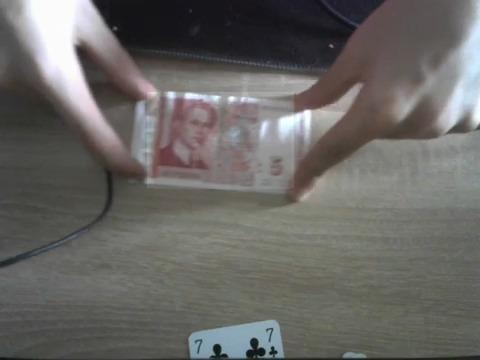5leva: (147, 92, 294, 188), (154, 93, 291, 189)
